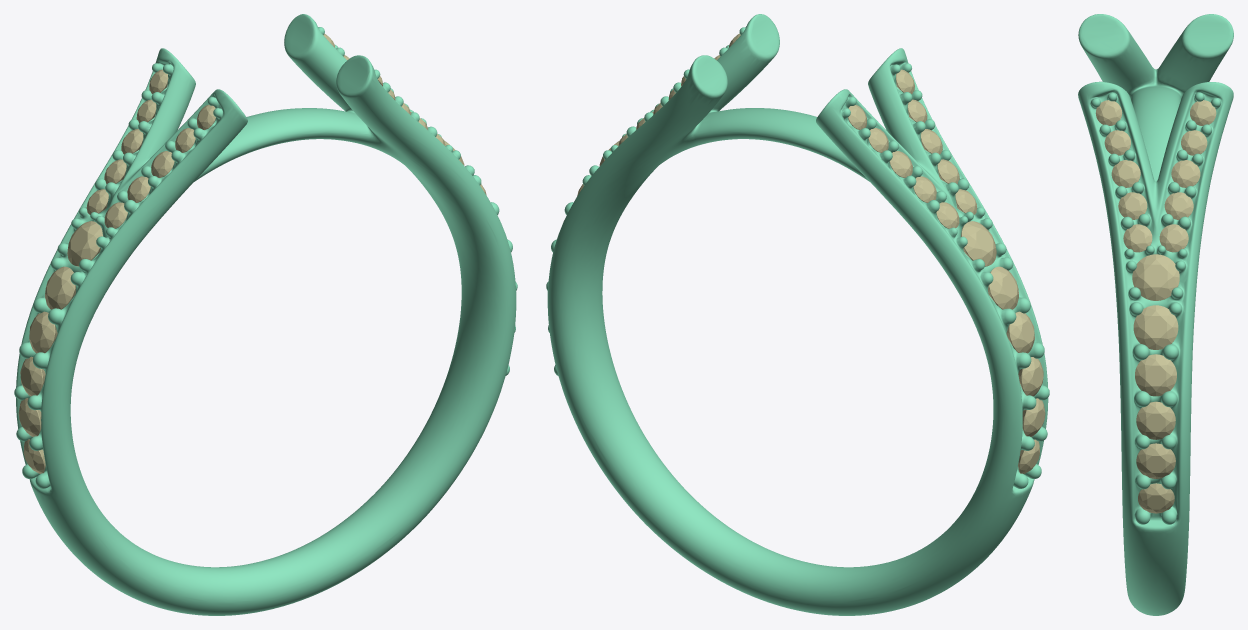
3 views of the same model, side by side, from view 1: azimuth 30°, elevation 25°; view 2: azimuth 150°, elevation 25°; view 3: azimuth 270°, elevation 25° (orthographic).
Visible parts, largest first — view 1: Metal02, Diamond_Gem.013, Diamond_Gem.012, Diamond_Gem.011, Diamond_Gem.010; view 2: Metal02, Diamond_Gem.013, Diamond_Gem.012, Diamond_Gem.011, Diamond_Gem.010; view 3: Metal02, Diamond_Gem.018, Diamond_Gem.019, Diamond_Gem.020, Diamond_Gem.021, Diamond_Gem.022, Diamond_Gem.023, Diamond_Gem.026, Diamond_Gem.024, Diamond_Gem.029, Diamond_Gem.031, Diamond_Gem.030 (+5 smaller).
Boxes of the visible parts, <box> form: Metal02: <box>14,14,517,615</box>; Diamond_Gem.013: <box>67,221,102,266</box>; Diamond_Gem.012: <box>45,266,75,309</box>; Diamond_Gem.011: <box>29,311,57,353</box>; Diamond_Gem.010: <box>20,356,45,396</box>; Metal02: <box>546,14,1049,615</box>; Diamond_Gem.013: <box>961,221,996,266</box>; Diamond_Gem.012: <box>988,266,1018,309</box>; Diamond_Gem.011: <box>1006,311,1034,353</box>; Diamond_Gem.010: <box>1018,357,1043,396</box>; Metal02: <box>1078,14,1233,615</box>; Diamond_Gem.018: <box>1132,254,1179,300</box>; Diamond_Gem.019: <box>1133,305,1178,349</box>; Diamond_Gem.020: <box>1135,354,1176,396</box>; Diamond_Gem.021: <box>1136,401,1175,439</box>; Diamond_Gem.022: <box>1136,443,1175,478</box>; Diamond_Gem.023: <box>1138,483,1174,513</box>; Diamond_Gem.026: <box>1159,224,1188,252</box>; Diamond_Gem.024: <box>1171,160,1200,187</box>; Diamond_Gem.029: <box>1123,224,1152,252</box>; Diamond_Gem.031: <box>1111,160,1140,187</box>; Diamond_Gem.030: <box>1118,192,1147,219</box>.
Bounding box in the file's own units: 20.96 × 22.7 × 5.91.
